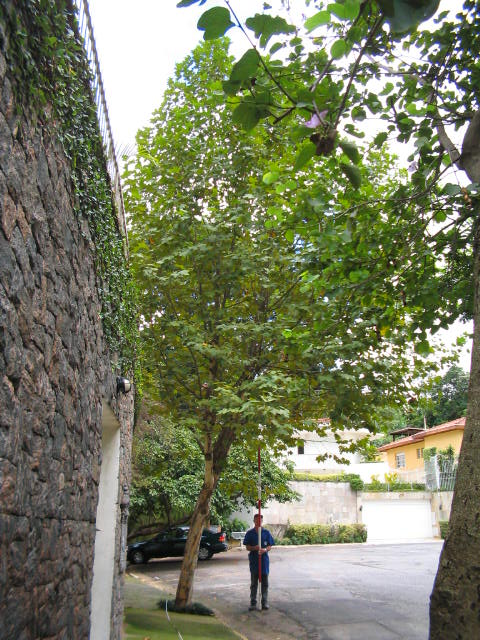crown: (120, 36, 442, 469)
stem: (169, 473, 228, 609)
stick: (250, 446, 268, 610)
tree: (118, 34, 443, 610)
